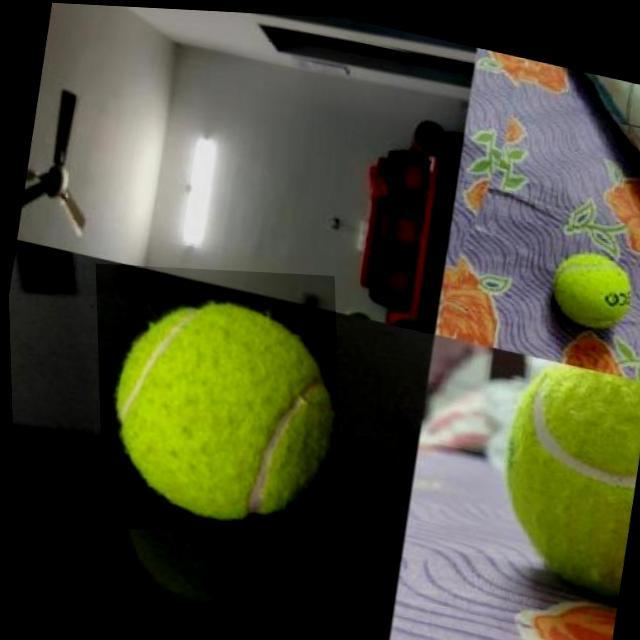-: (94, 263, 339, 536)
